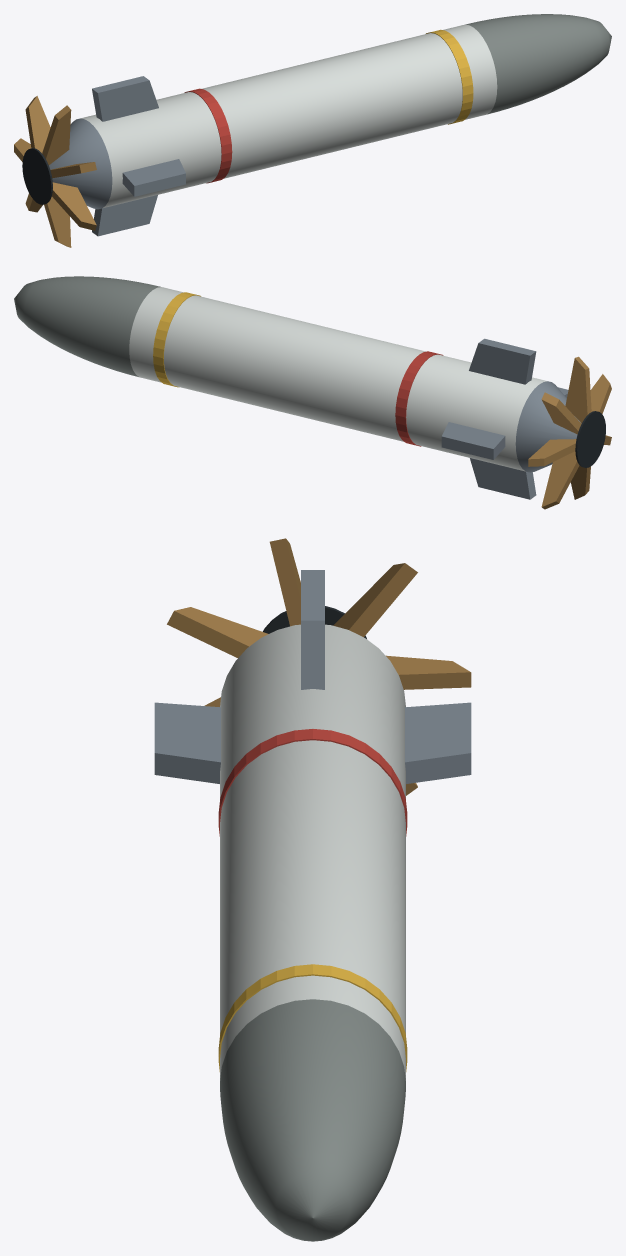
Rendered from torpedo47.glb.
3 views of the same model, one above another, from view 1: azimuth 30°, elevation 25°; view 2: azimuth 150°, elevation 25°; view 3: azimuth 270°, elevation 25° (orthographic). The views are drawn at different scales.
Parts seen in each view (by area): view 1: torpedo47; view 2: torpedo47; view 3: torpedo47.
Part boxes in pixels (<box>): torpedo47: <box>14,14,611,247</box>; torpedo47: <box>14,276,611,509</box>; torpedo47: <box>154,538,471,1241</box>.
Size of the model in its own units: 10 by 2.38 by 2.38.
